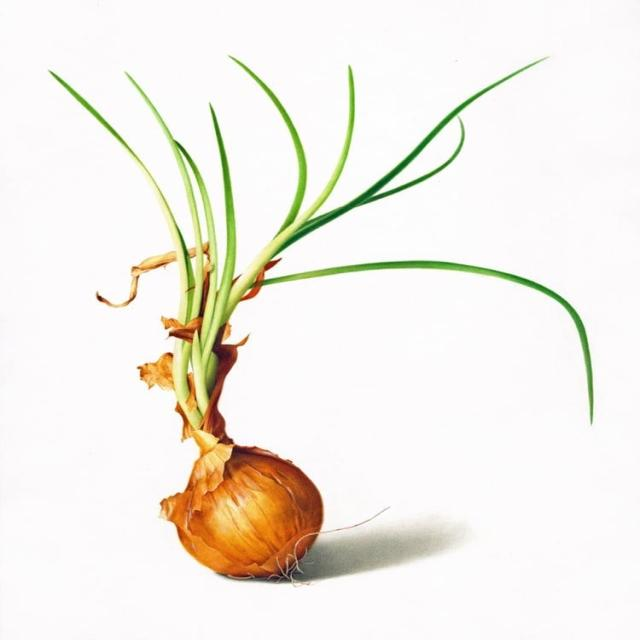sprouting: (32, 30, 561, 563)
